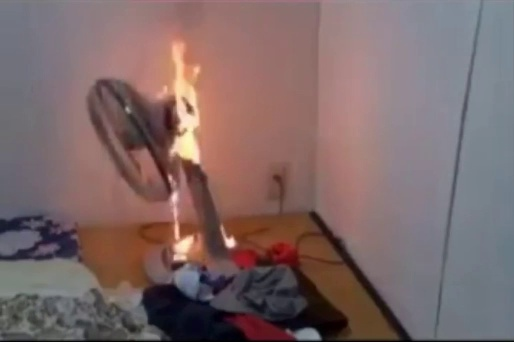fire: (165, 44, 211, 164)
